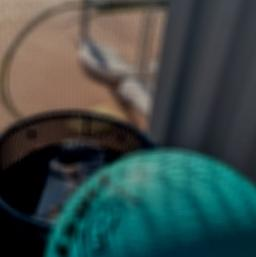algae: (39, 144, 256, 257)
